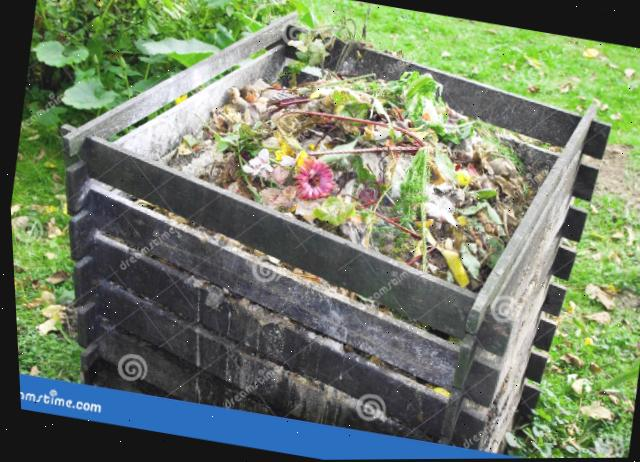Garbage: (108, 35, 564, 292)
